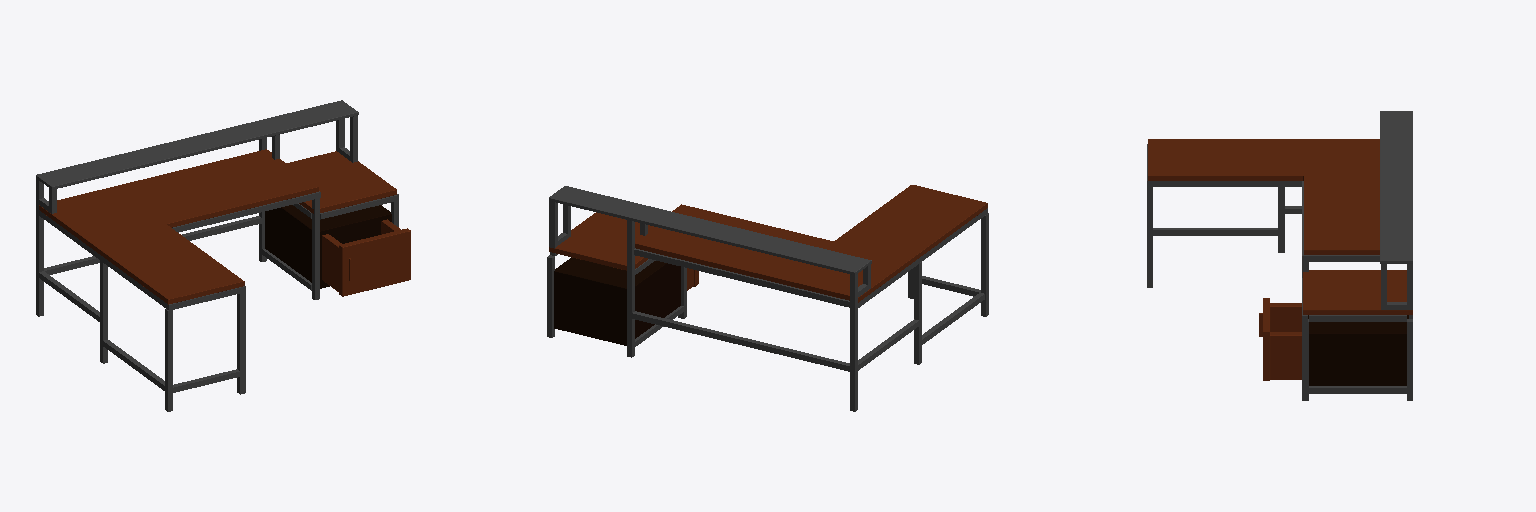
Rendered from desk7.obj.
3 views of the same model, side by side, from view 1: azimuth 30°, elevation 25°; view 2: azimuth 150°, elevation 25°; view 3: azimuth 270°, elevation 25° (orthographic).
Visible parts, largest first — view 1: BasicDesk_DualPlacement_Low, Cabinet; view 2: BasicDesk_DualPlacement_Low; view 3: BasicDesk_DualPlacement_Low, Cabinet.
Boxes of the visible parts, box(x1,y1,x2,y2) form: BasicDesk_DualPlacement_Low: box(36, 100, 398, 411); Cabinet: box(322, 219, 410, 296); BasicDesk_DualPlacement_Low: box(547, 185, 988, 411); BasicDesk_DualPlacement_Low: box(1147, 111, 1412, 400); Cabinet: box(1259, 298, 1301, 380).
Size of the model in its own units: 3.76 by 1.63 by 2.81.